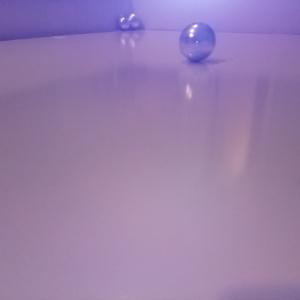alive_ball: (179, 22, 216, 62), (128, 13, 140, 29), (118, 17, 130, 30)
